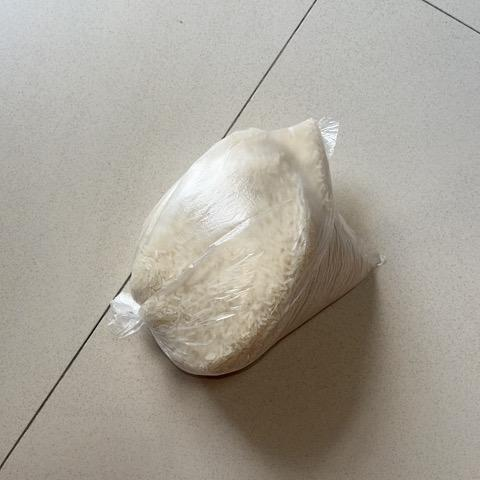rice: (106, 107, 386, 381)
